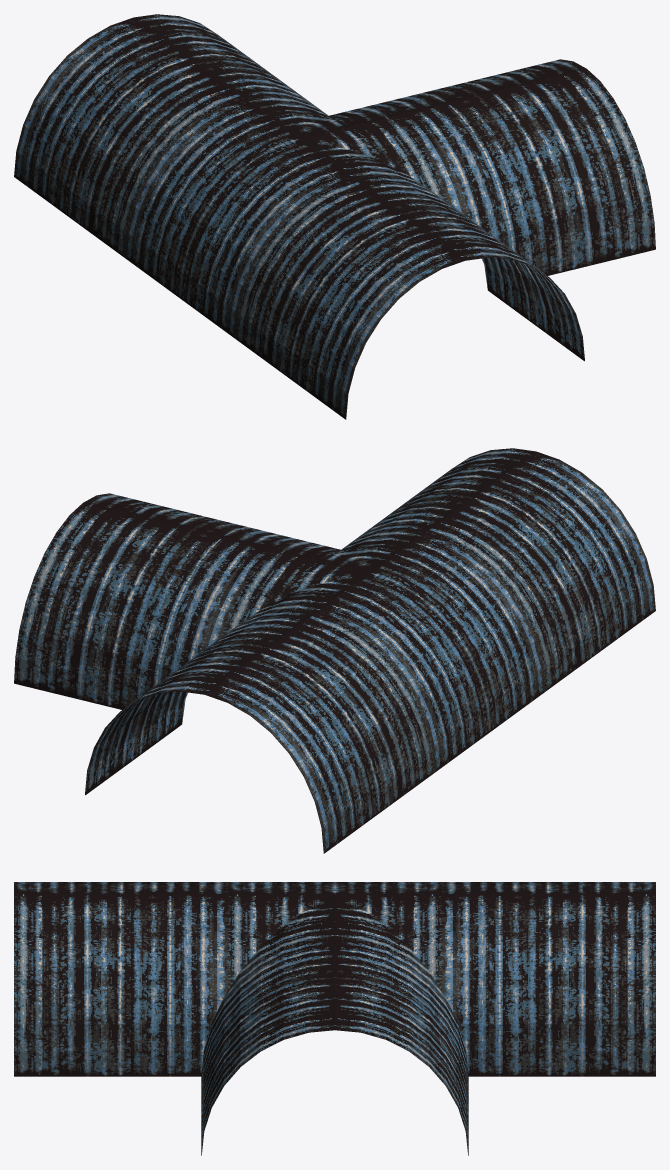
File: SM_EU_MetalTunnel_T_1.001.fbx
3 renders of one model, top to bottom at view 1: azimuth 30°, elevation 25°; view 2: azimuth 150°, elevation 25°; view 3: azimuth 270°, elevation 25°, orthographic. The views are drawn at different scales.
Parts seen in each view (by area): view 1: SM_EU_MetalTunnel_T_1.001; view 2: SM_EU_MetalTunnel_T_1.001; view 3: SM_EU_MetalTunnel_T_1.001.
Part boxes in pixels (x1=…): SM_EU_MetalTunnel_T_1.001: x1=14, y1=14, x2=655, y2=419; SM_EU_MetalTunnel_T_1.001: x1=14, y1=448, x2=655, y2=853; SM_EU_MetalTunnel_T_1.001: x1=14, y1=882, x2=655, y2=1155.
Size of the model in its own units: 8.5 by 12 by 2.6.
